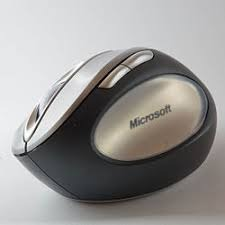mouse: (11, 44, 225, 195)
